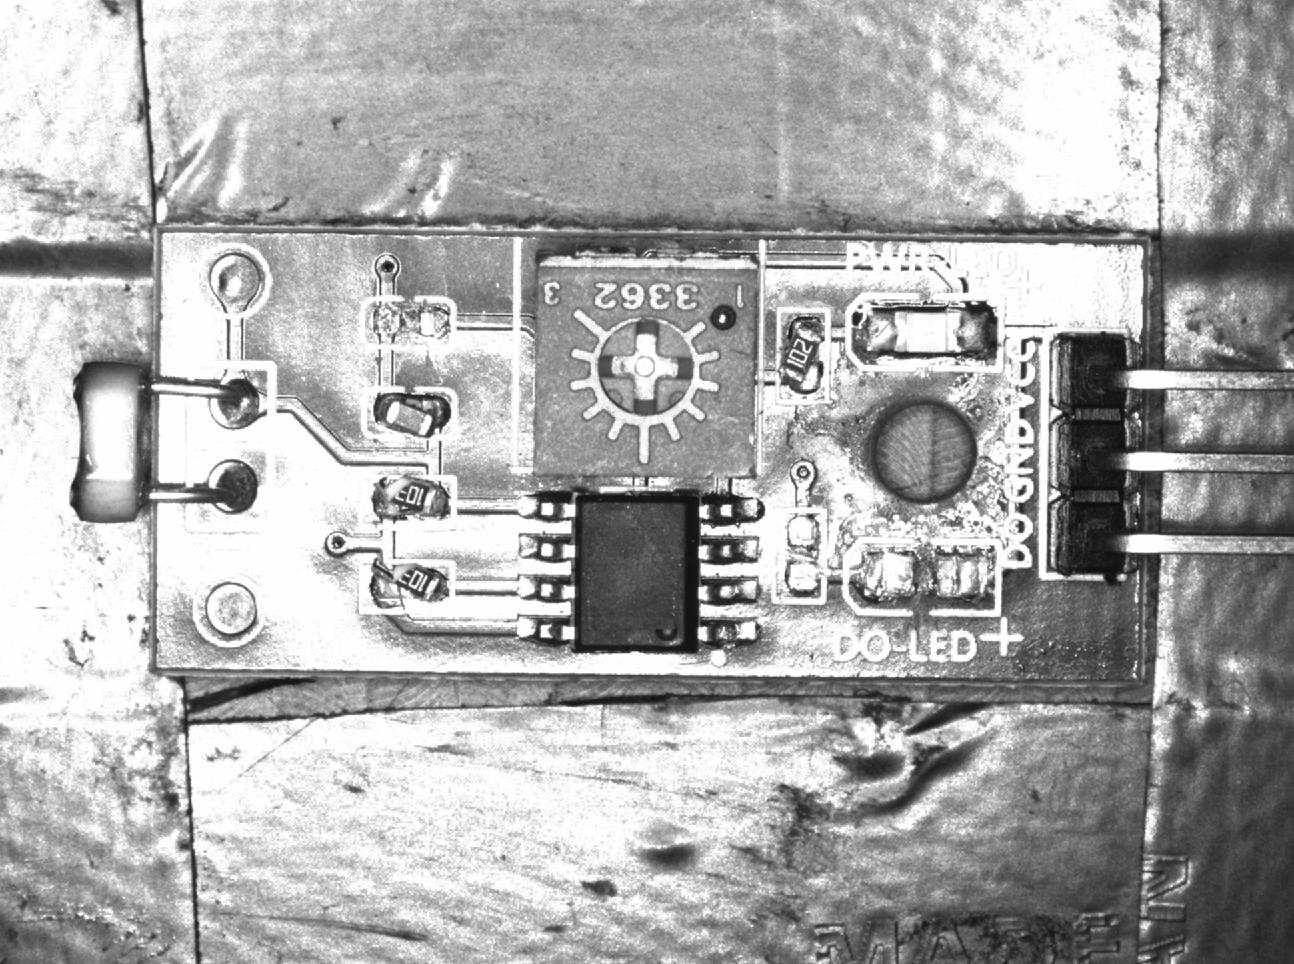lifted: (363, 384, 461, 437), (358, 559, 454, 612), (778, 309, 830, 403), (359, 474, 456, 525)
miss: (775, 511, 828, 604), (362, 300, 459, 347)
